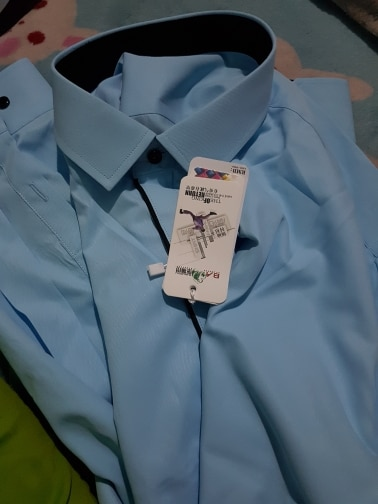shirts: (35, 21, 378, 500)
